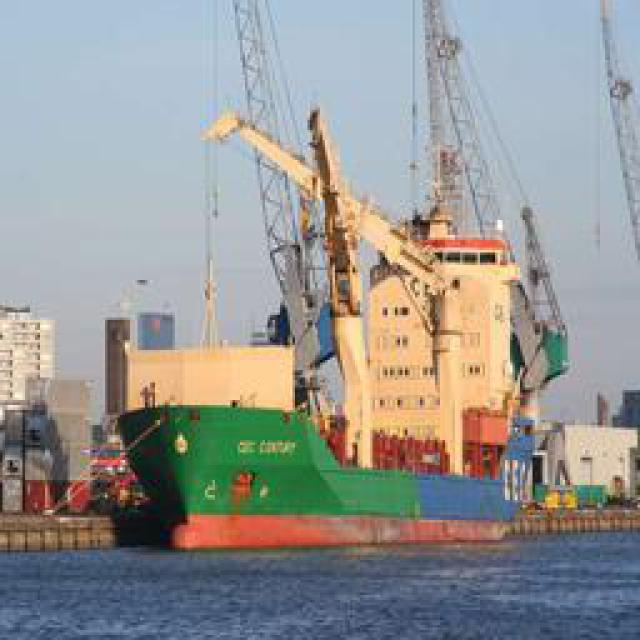Ship: (84, 25, 599, 545)
